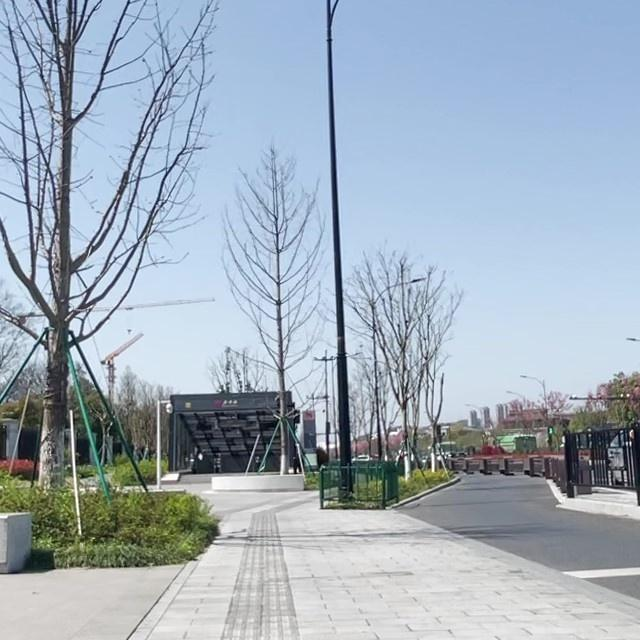curb: (401, 512, 639, 624), (390, 475, 460, 508), (557, 499, 639, 520)
